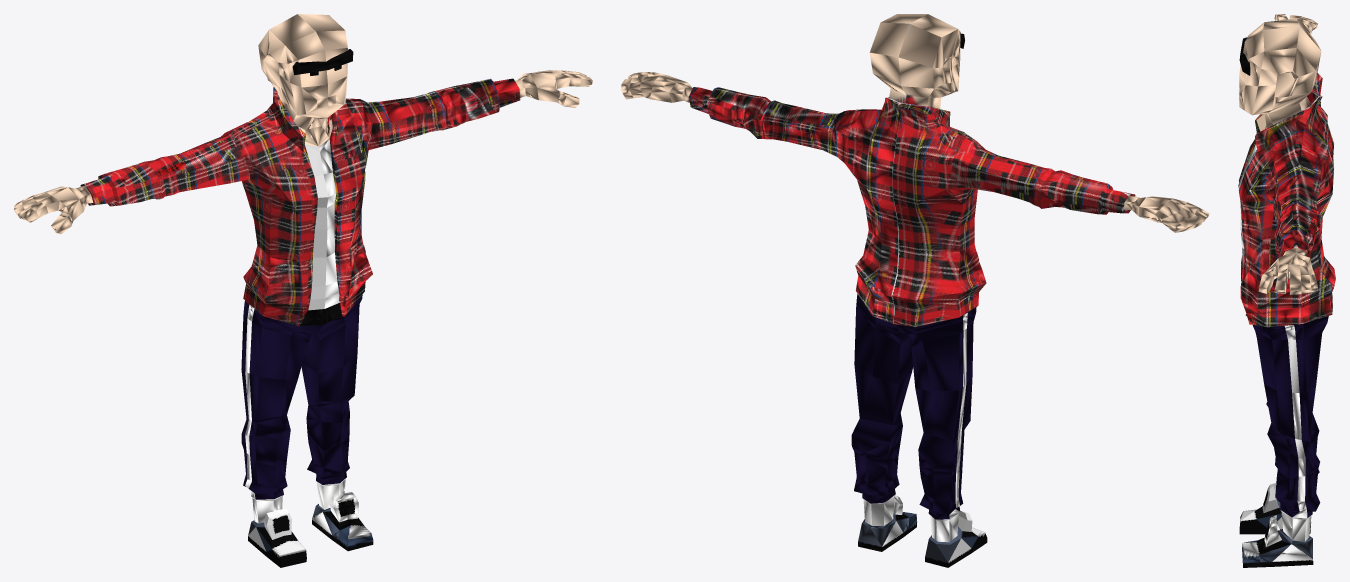
File: Check_Sprite.fbx
3 views of the same model, side by side, from view 1: azimuth 30°, elevation 25°; view 2: azimuth 150°, elevation 25°; view 3: azimuth 270°, elevation 25° (orthographic). The views are drawn at different scales.
Visible parts, largest first — view 1: Character_SportyMale_01; view 2: Character_SportyMale_01; view 3: Character_SportyMale_01.
Part boxes in pixels (left/top/right/bottom): Character_SportyMale_01: left=14, top=14, right=592, bottom=567; Character_SportyMale_01: left=621, top=14, right=1209, bottom=567; Character_SportyMale_01: left=1238, top=14, right=1335, bottom=567.
Bounding box in the file's own units: 205 × 179 × 30.63.
